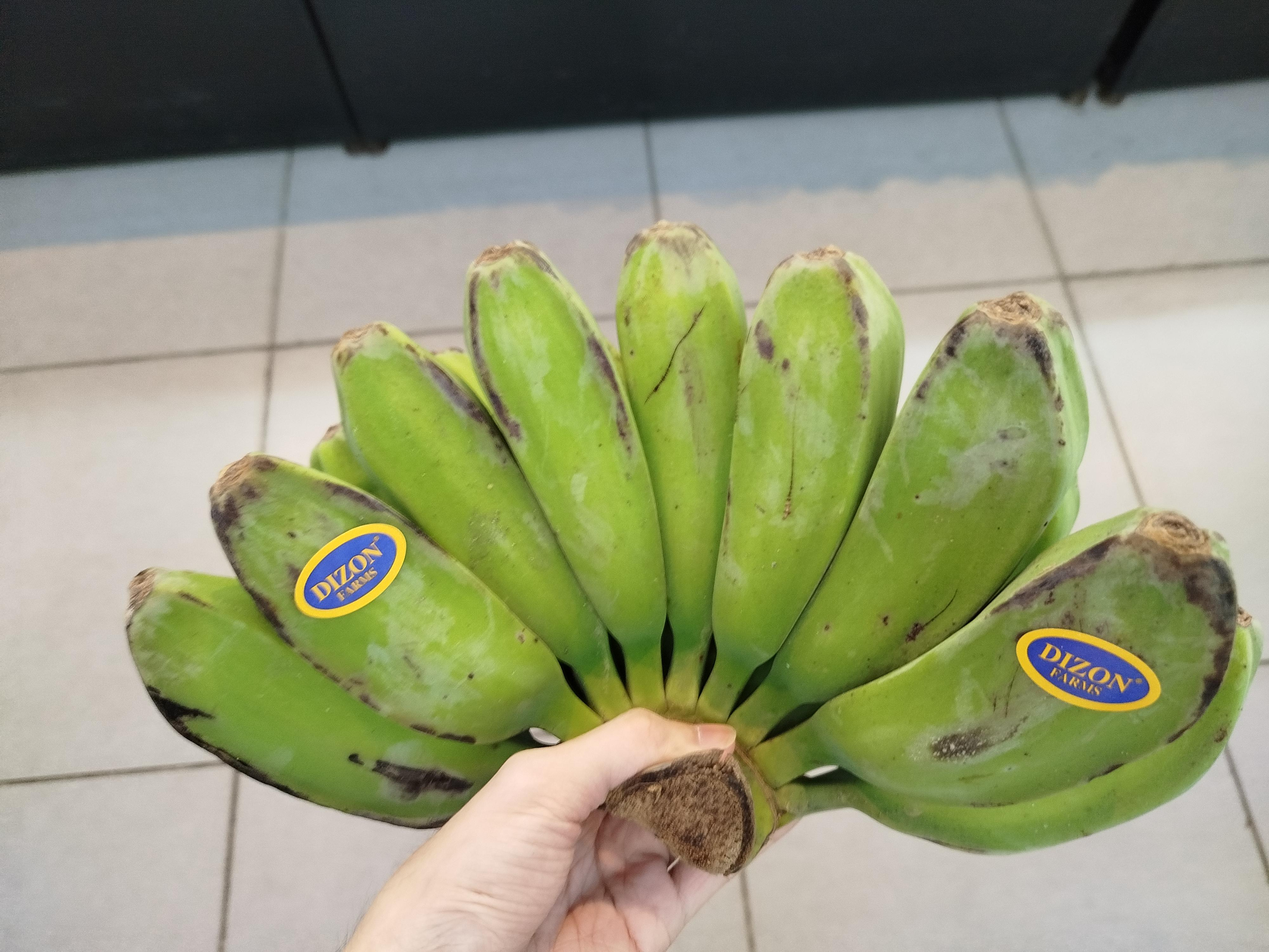underripe: (127, 224, 1260, 851)
